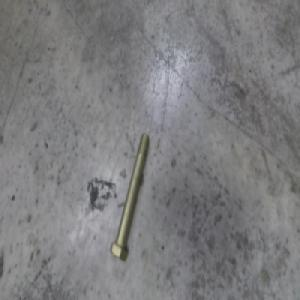Bolt: (112, 137, 149, 258)
